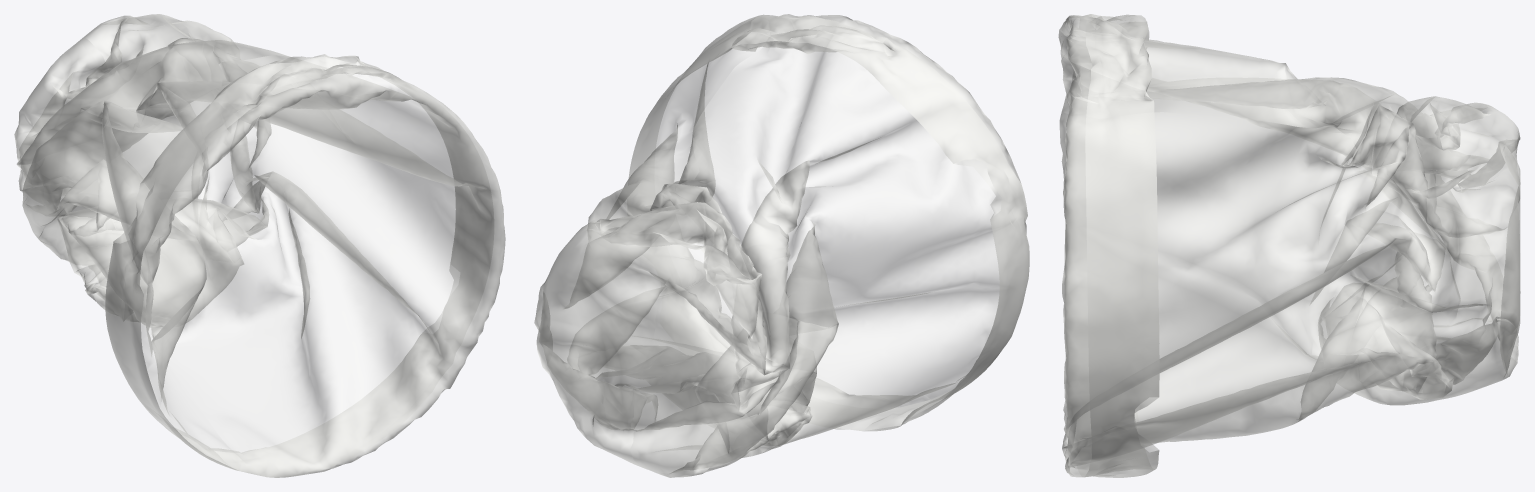
3 views of the same model, side by side, from view 1: azimuth 30°, elevation 25°; view 2: azimuth 150°, elevation 25°; view 3: azimuth 270°, elevation 25° (orthographic). The views are drawn at different scales.
Parts seen in each view (by area): view 1: Garment; view 2: Garment; view 3: Garment.
Boxes of the visible parts, box(x1,y1,x2,y2) form: Garment: box(14, 14, 505, 477); Garment: box(534, 14, 1029, 477); Garment: box(1058, 14, 1520, 477).
Bounding box in the file's own units: 0.2887 × 0.2909 × 0.2882.
